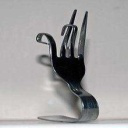Fork: (24, 6, 112, 123)
